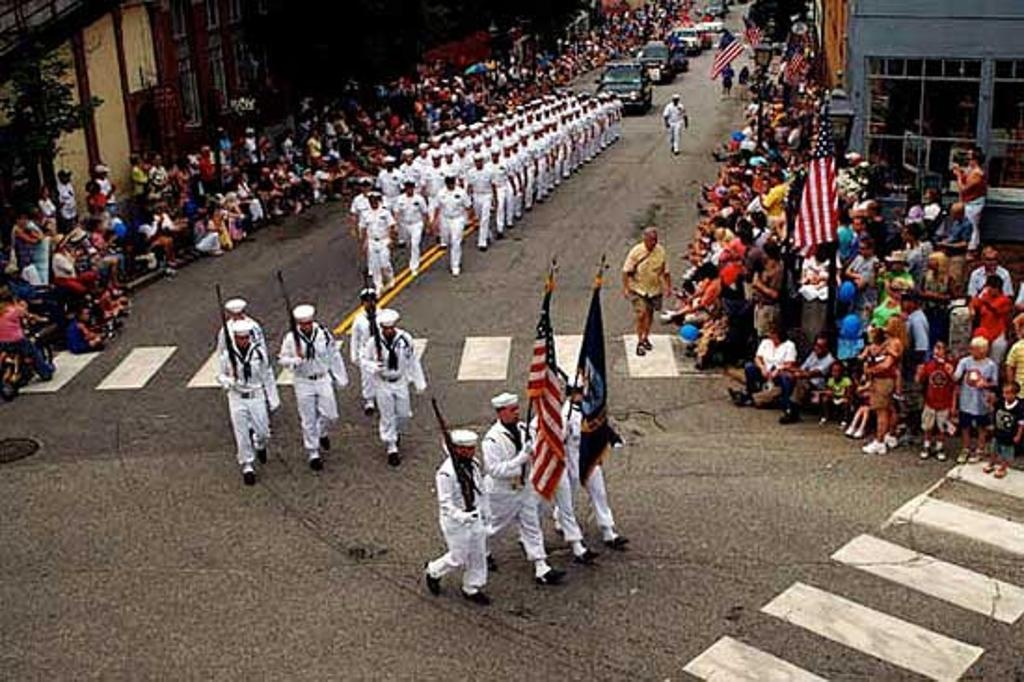human_face: (454, 442, 474, 462), (502, 402, 518, 422), (299, 317, 313, 333), (814, 338, 828, 354), (573, 387, 587, 401), (642, 232, 656, 246), (696, 275, 710, 289), (868, 326, 880, 342), (890, 281, 902, 297), (237, 332, 249, 346), (969, 343, 981, 357), (985, 259, 997, 273), (362, 296, 374, 308), (830, 364, 842, 376), (1002, 386, 1012, 400), (933, 346, 943, 360), (230, 309, 240, 321), (1014, 324, 1024, 336), (987, 282, 997, 294), (904, 297, 914, 309), (928, 256, 938, 268), (893, 258, 903, 270), (948, 205, 958, 217), (368, 194, 378, 206), (858, 242, 866, 256), (383, 324, 393, 334), (967, 150, 975, 162), (444, 178, 454, 187), (360, 182, 370, 191), (902, 228, 910, 239), (770, 326, 778, 336), (852, 218, 860, 228), (80, 309, 88, 319), (404, 184, 412, 194), (60, 172, 70, 180), (924, 189, 932, 197), (16, 216, 24, 224), (384, 162, 392, 170), (404, 154, 412, 162), (444, 154, 452, 162), (490, 152, 498, 160), (95, 222, 101, 230), (433, 157, 439, 165), (475, 158, 481, 166), (458, 147, 464, 155), (432, 138, 438, 146), (485, 137, 491, 145), (420, 148, 426, 154), (503, 148, 509, 154), (473, 142, 479, 148), (520, 136, 526, 142), (458, 130, 464, 136), (510, 143, 516, 149), (470, 128, 474, 136), (446, 137, 450, 143), (496, 130, 502, 134)
